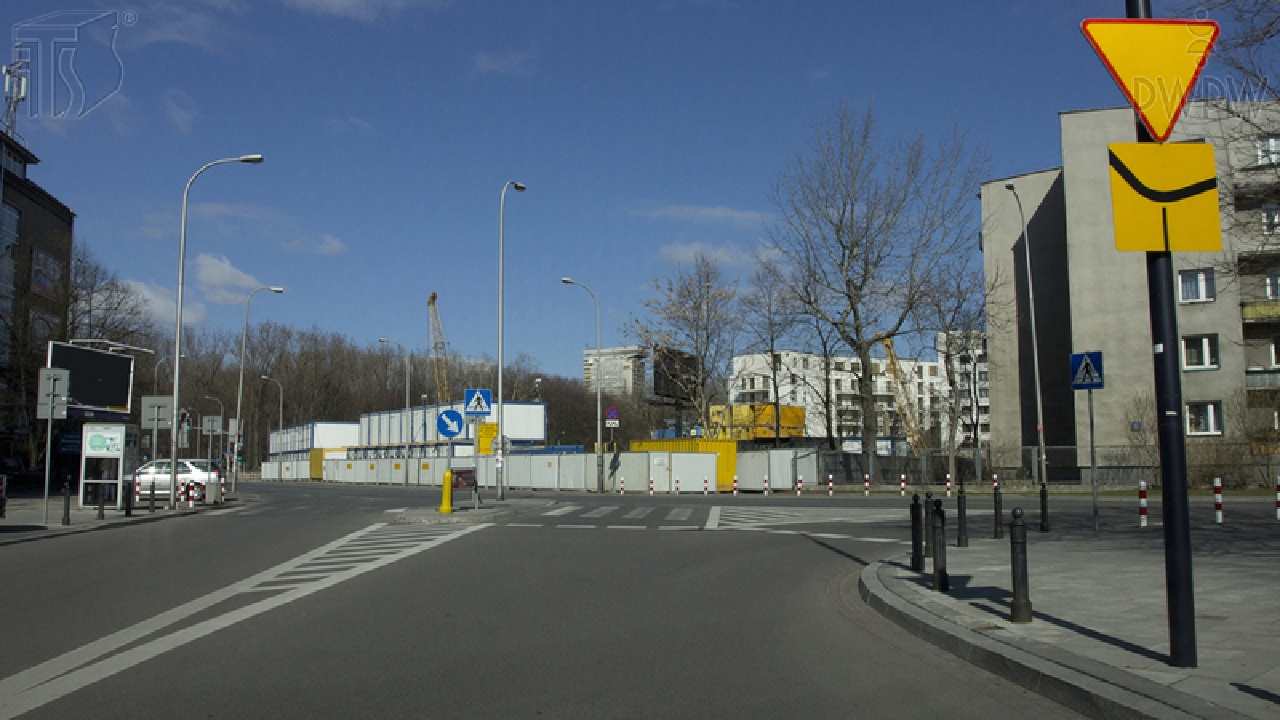A7: (1081, 16, 1220, 141)
C9: (438, 410, 463, 438)
D6: (1069, 351, 1105, 389), (464, 388, 490, 416)
